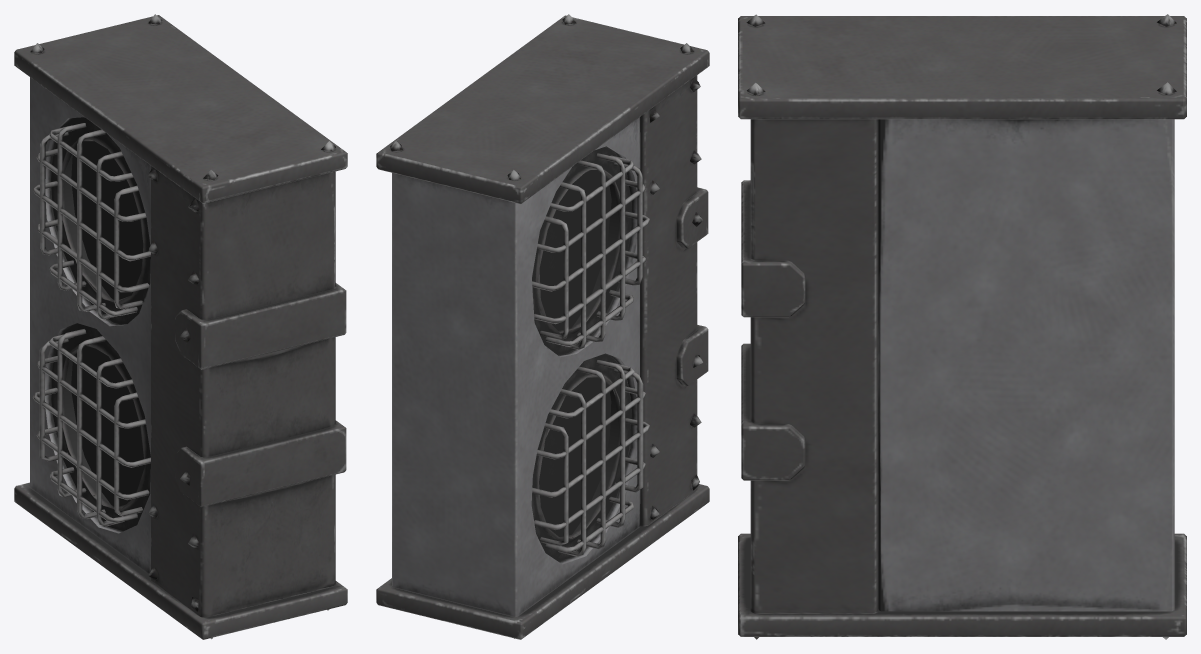
Rendered from SM_air_condition_body_02.fbx.
3 views of the same model, side by side, from view 1: azimuth 30°, elevation 25°; view 2: azimuth 150°, elevation 25°; view 3: azimuth 270°, elevation 25° (orthographic). The views are drawn at different scales.
Visible parts, largest first — view 1: SM_air_condition_body_02_LOD0; view 2: SM_air_condition_body_02_LOD0; view 3: SM_air_condition_body_02_LOD0.
Boxes of the visible parts, x1,y1,x2,y2 form: SM_air_condition_body_02_LOD0: (14,14,347,639); SM_air_condition_body_02_LOD0: (376,14,709,639); SM_air_condition_body_02_LOD0: (738,14,1186,639).
Bounding box in the file's own units: 44.91 × 94 × 129.
